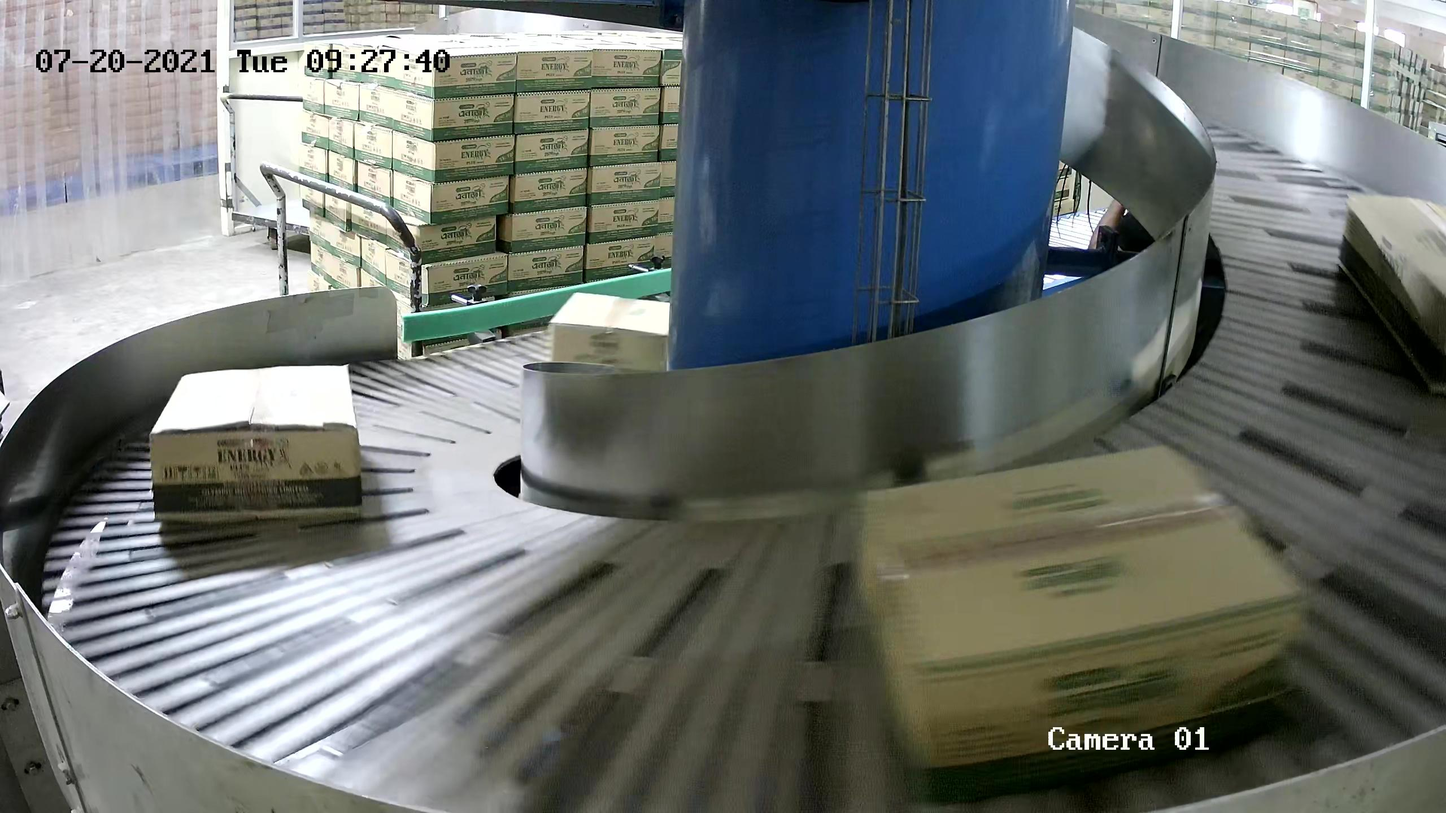Box: (847, 441, 1313, 804), (147, 364, 366, 525), (1336, 193, 1446, 397), (547, 291, 684, 388)
